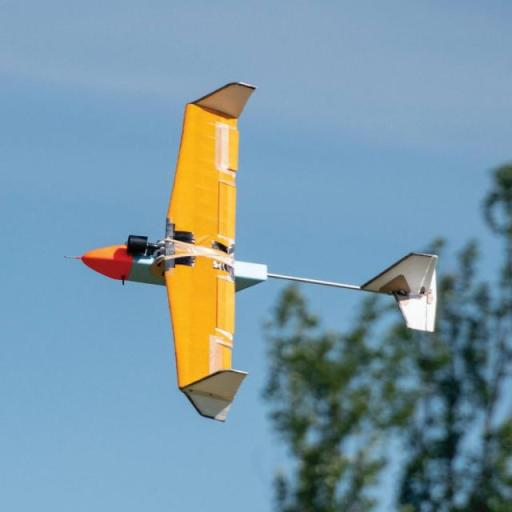uav: (70, 75, 444, 423)
